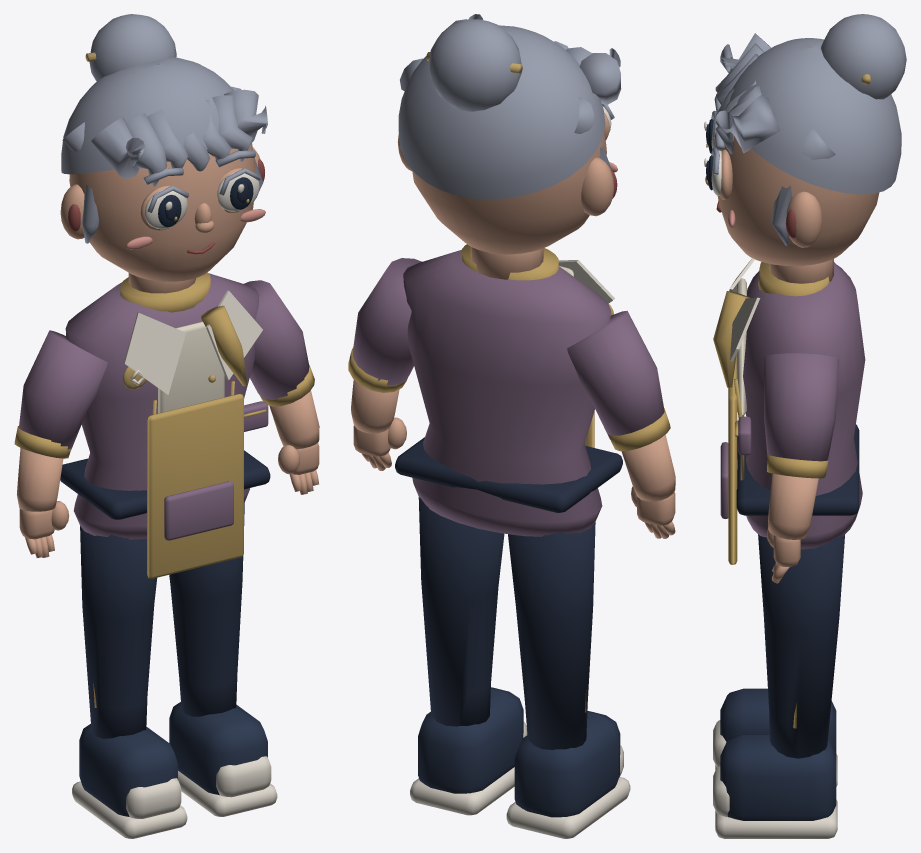
Rendered from blocky_character_f.glb.
3 views of the same model, side by side, from view 1: azimuth 30°, elevation 25°; view 2: azimuth 150°, elevation 25°; view 3: azimuth 270°, elevation 25° (orthographic). The views are drawn at different scales.
Parts seen in each view (by area): view 1: figure.005; view 2: figure.005; view 3: figure.005.
Part boxes in pixels (x1,y1,x2,y2): figure.005: (14,14,319,838); figure.005: (348,14,675,838); figure.005: (704,14,906,838).
Size of the model in its own units: 1.03 by 2.5 by 0.5838.
